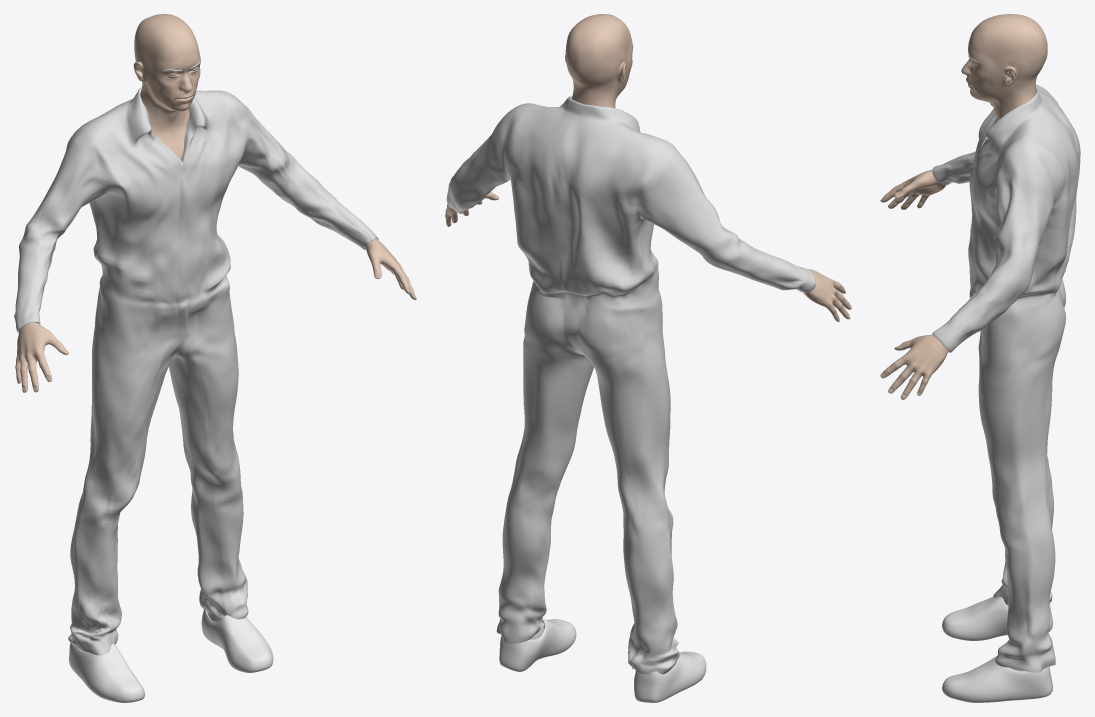
Rendered from human (1).glb.
The picture shows the model from 3 angles, left to right: view 1: azimuth 30°, elevation 25°; view 2: azimuth 150°, elevation 25°; view 3: azimuth 270°, elevation 25°; orthographic projection.
Visible parts, largest first — view 1: human-male_casualsuit01, human-base.obj, human-shoes06; view 2: human-male_casualsuit01, human-base.obj, human-shoes06; view 3: human-male_casualsuit01, human-base.obj, human-shoes06.
Part boxes in pixels (x1,y1,x2,y2): human-male_casualsuit01: (14,86,378,655); human-base.obj: (15,14,416,392); human-shoes06: (69,609,273,702); human-male_casualsuit01: (446,96,816,674); human-base.obj: (445,14,851,321); human-shoes06: (499,618,706,702); human-male_casualsuit01: (932,84,1080,672); human-base.obj: (880,14,1047,399); human-shoes06: (942,596,1053,702).
Size of the model in its own units: 1.24 by 1.96 by 0.5475.
